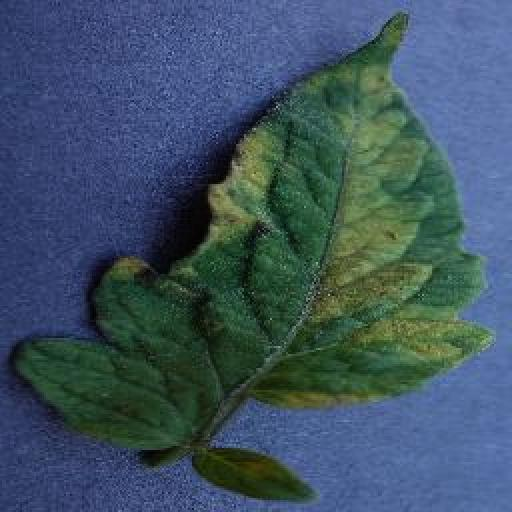disease_tomato: (20, 8, 496, 446)
